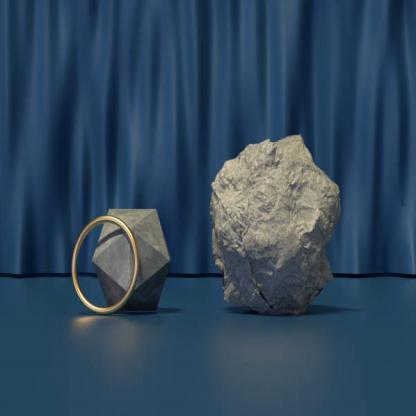Metamorphic_Marble: (206, 123, 346, 313)
